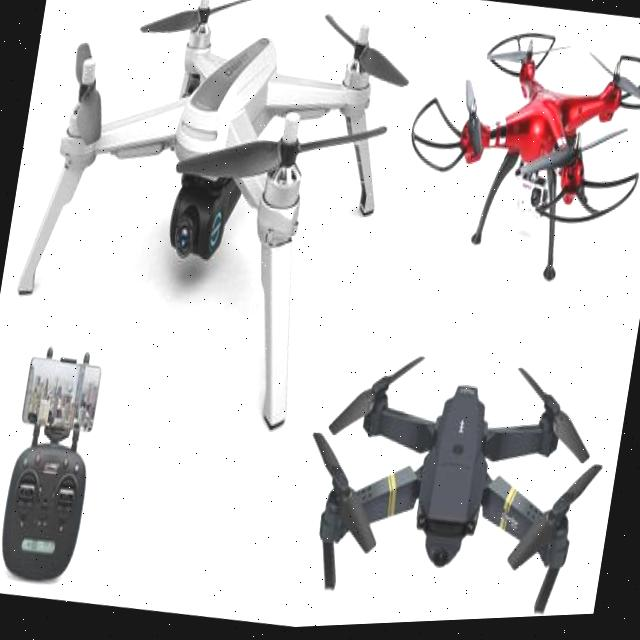drone: (276, 320, 633, 630)
